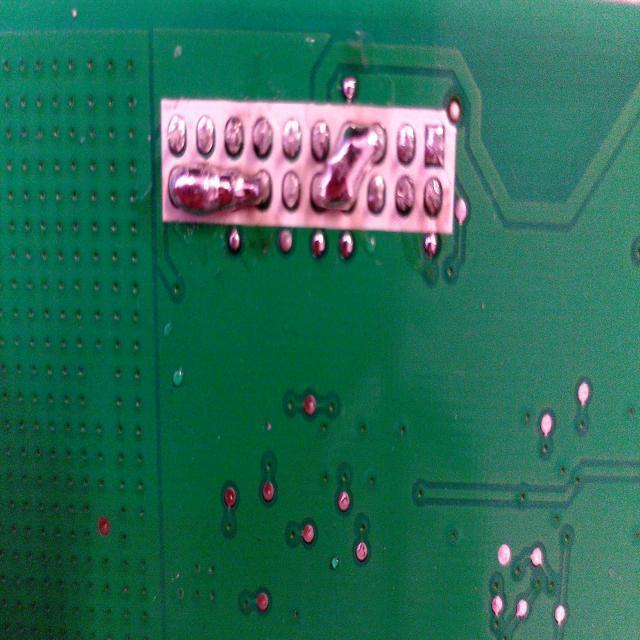Soldering shorted: (312, 118, 389, 216), (169, 160, 276, 218)
